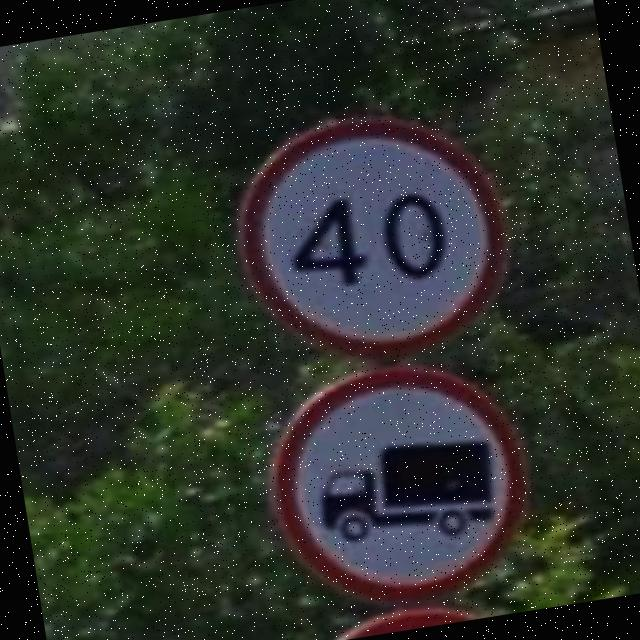Ograniczenie predkosci do 40: (220, 94, 530, 379)
